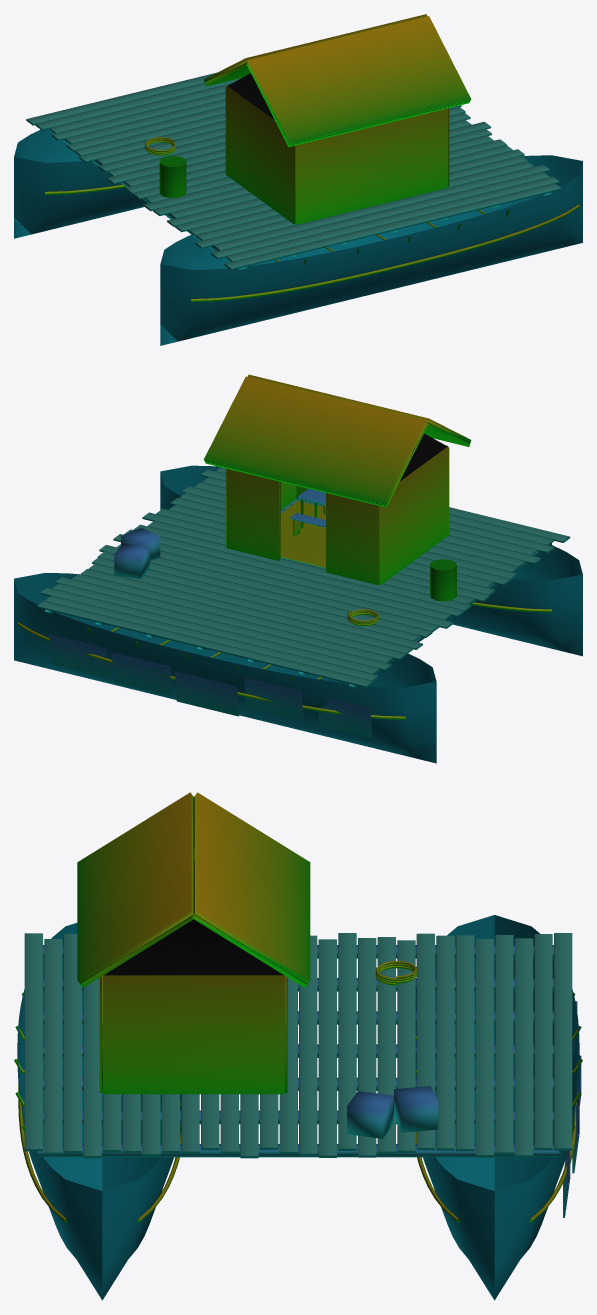
The model's file is hm_dockmaster_house.glb.
The picture shows the model from 3 angles, top to bottom: view 1: azimuth 30°, elevation 25°; view 2: azimuth 150°, elevation 25°; view 3: azimuth 270°, elevation 25°; orthographic projection. The views are drawn at different scales.
Visible parts, largest first — view 1: hm_dockmaster_house; view 2: hm_dockmaster_house; view 3: hm_dockmaster_house.
Part boxes in pixels (x1,y1,x2,y2): hm_dockmaster_house: (14, 14, 582, 345); hm_dockmaster_house: (14, 374, 582, 763); hm_dockmaster_house: (14, 792, 582, 1300).
Size of what is drawn, in the model's own units: 10 by 5.25 by 8.7.
